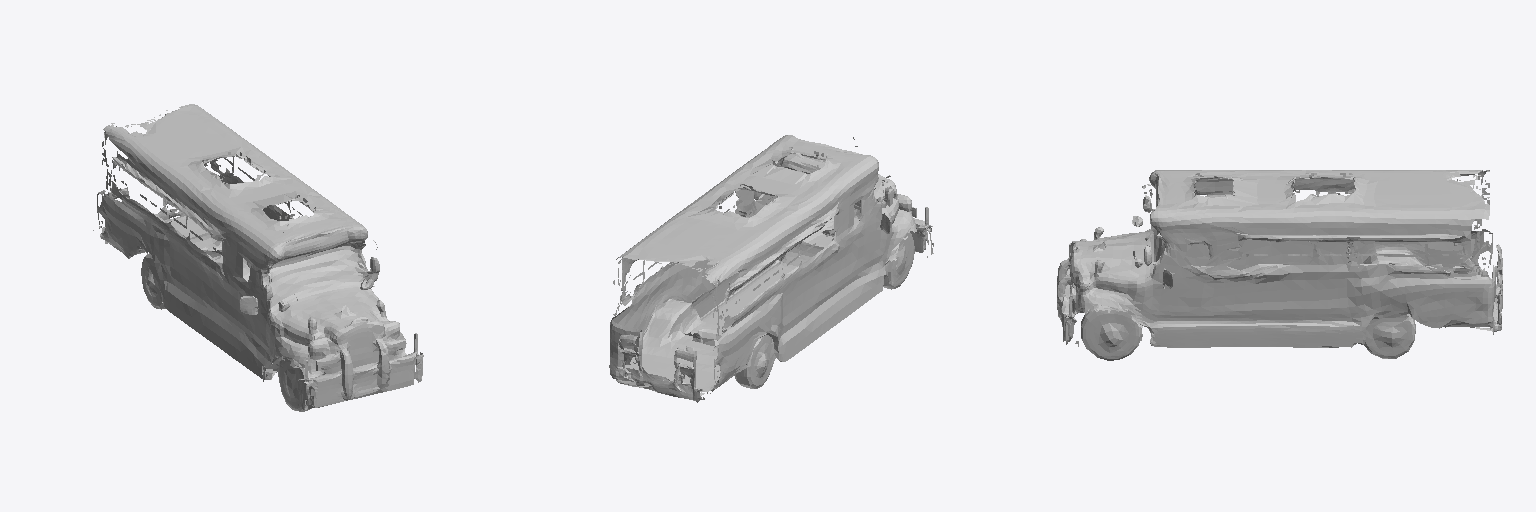
Rendered from jeep2.obj.
3 renders of one model, left to right at view 1: azimuth 30°, elevation 25°; view 2: azimuth 150°, elevation 25°; view 3: azimuth 270°, elevation 25°, orthographic.
Parts seen in each view (by area): view 1: Colorful_Filipino_Jee_[number redacted]_texture; view 2: Colorful_Filipino_Jee_[number redacted]_texture; view 3: Colorful_Filipino_Jee_[number redacted]_texture.
Part boxes in pixels (x1,y1,x2,y2): Colorful_Filipino_Jee_[number redacted]_texture: (93, 104, 423, 411); Colorful_Filipino_Jee_[number redacted]_texture: (609, 135, 933, 402); Colorful_Filipino_Jee_[number redacted]_texture: (1057, 170, 1502, 360).
Size of the model in its own units: 0.7184 by 0.8096 by 2.